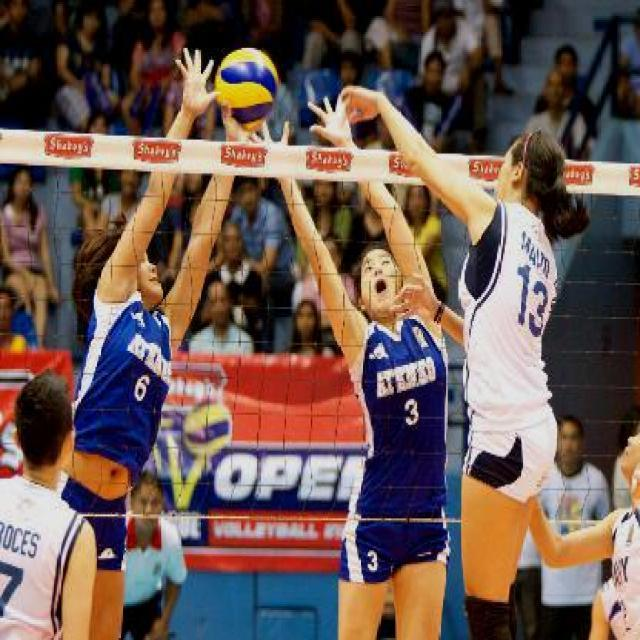volleyball: (215, 48, 279, 132)
